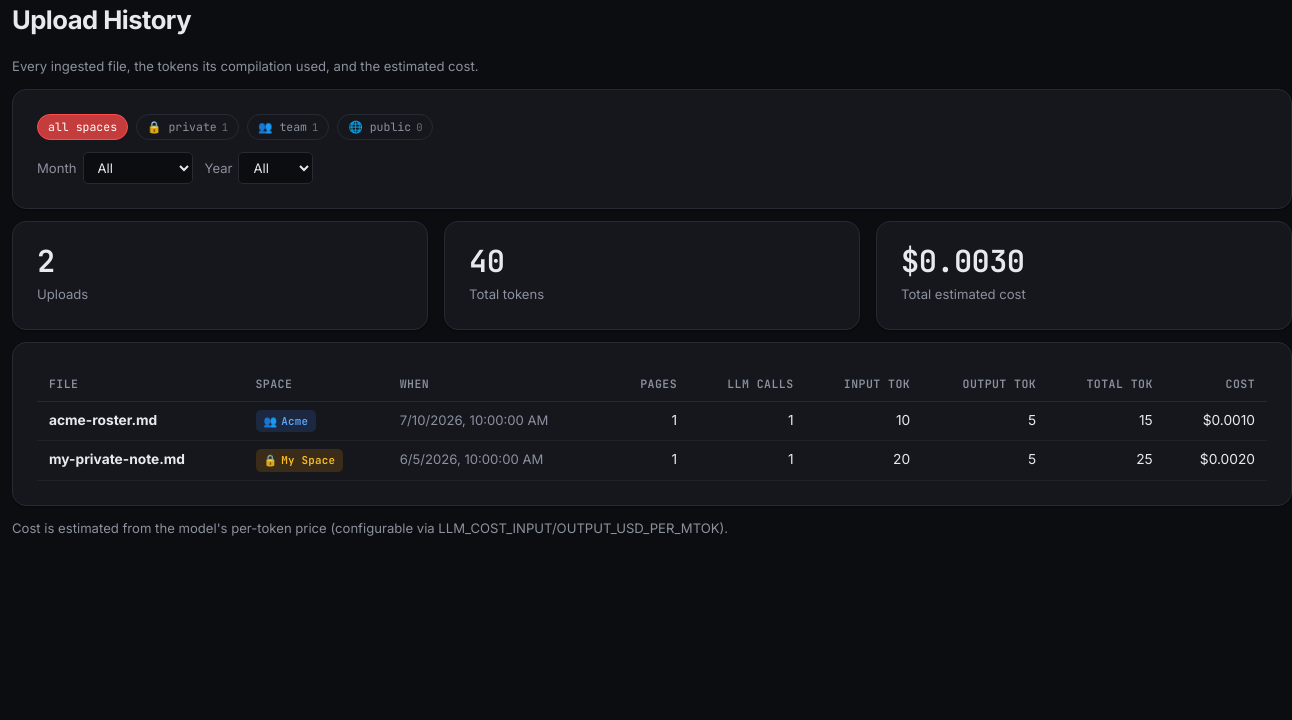
HistoryPage › filters the table by space type and by month/year
This screenshot has width=1292, height=720.
Expected: the text "acme-roster.md" is shown, x1=49 y1=412 x2=157 y2=428
Expected: the text "my-private-note.md" is shown, x1=49 y1=451 x2=185 y2=467
# Filter to Team → only the Acme row remains.
Step 1. Click the button "👥 Team 1" → (288, 127), box x1=247 y1=114 x2=329 y2=140
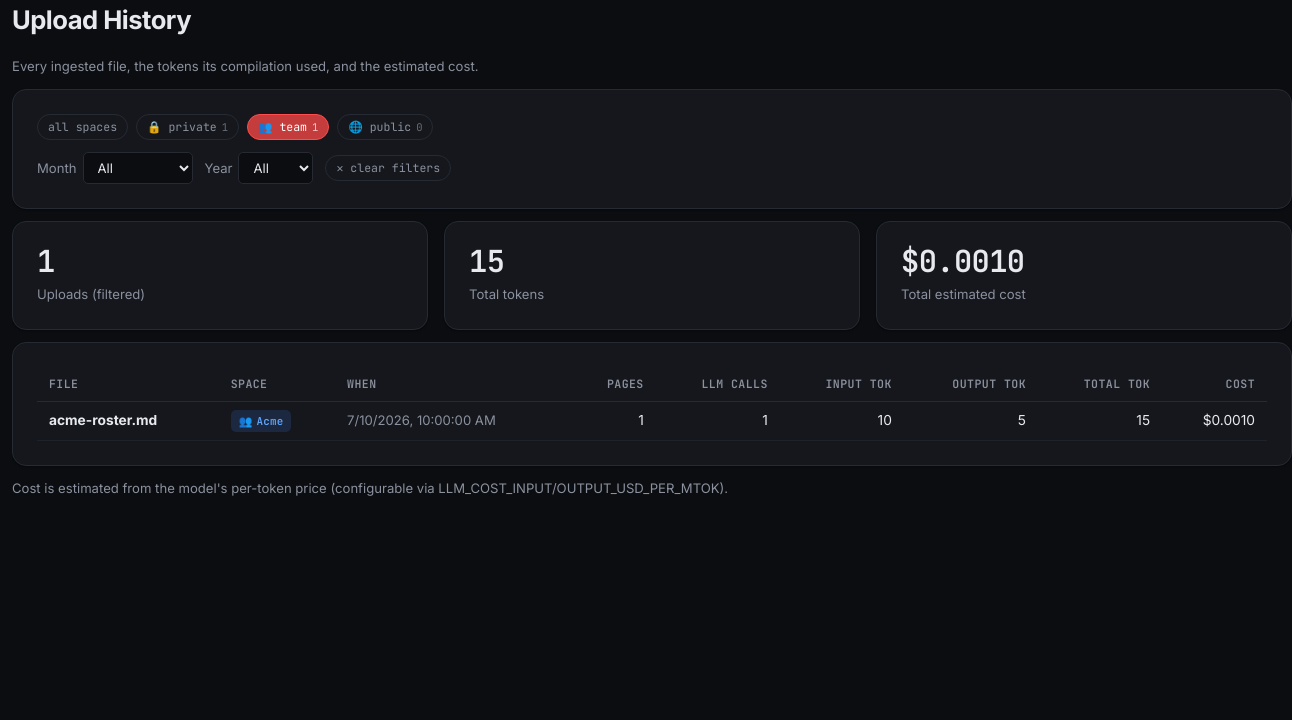
Expected: the text "acme-roster.md" is shown, x1=49 y1=412 x2=157 y2=428
Expected: the text "my-private-note.md" is gone
# Clear, then filter to June → only the personal (June) row remains.
Step 2. Click the button "✕ Clear filters" → (388, 168), box x1=326 y1=155 x2=451 y2=181
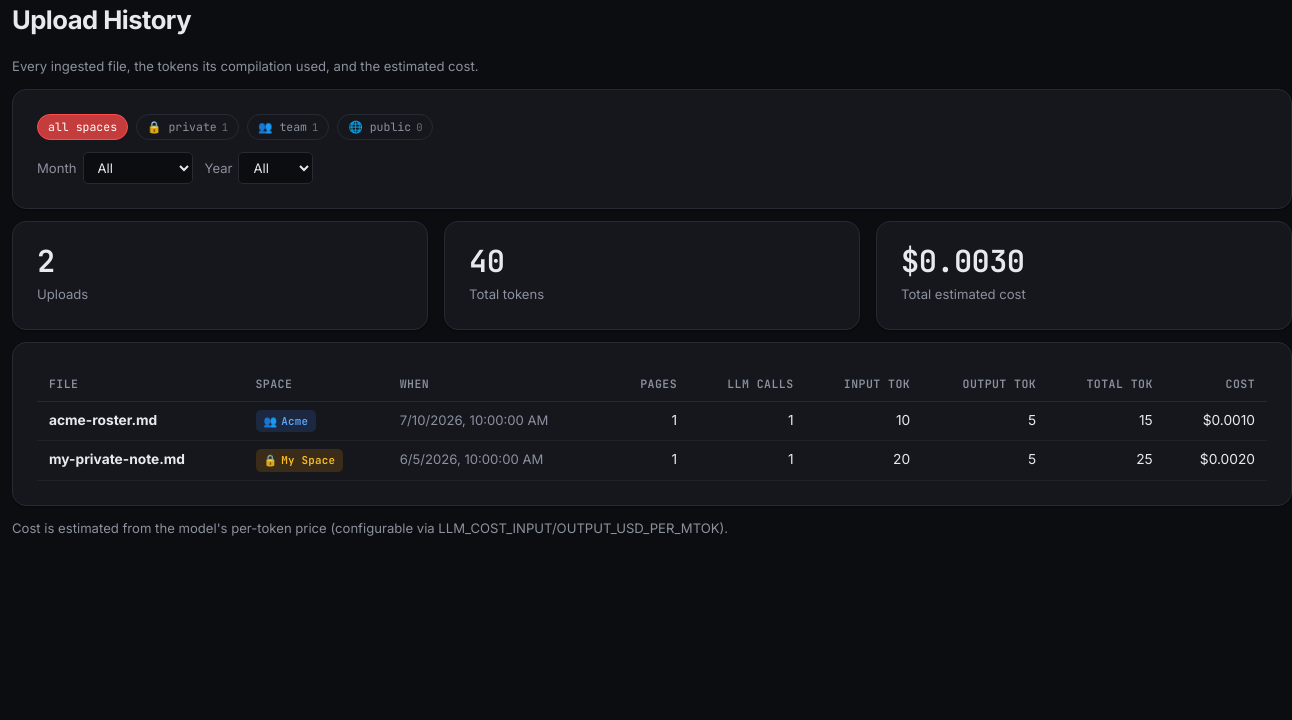
Step 3. Select "June" in the dropdown labelled "Month" → (138, 168), box x1=82 y1=152 x2=192 y2=184
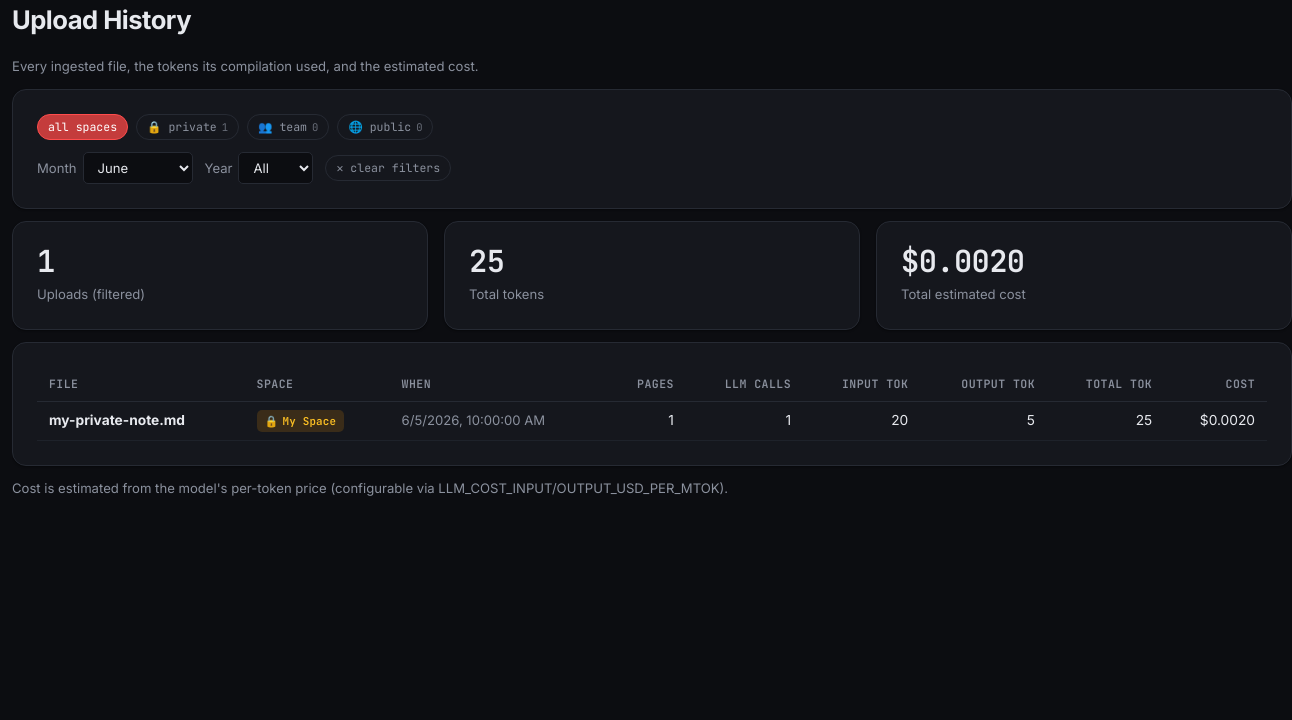
Expected: the text "my-private-note.md" is shown, x1=49 y1=412 x2=185 y2=428
Expected: the text "acme-roster.md" is gone
